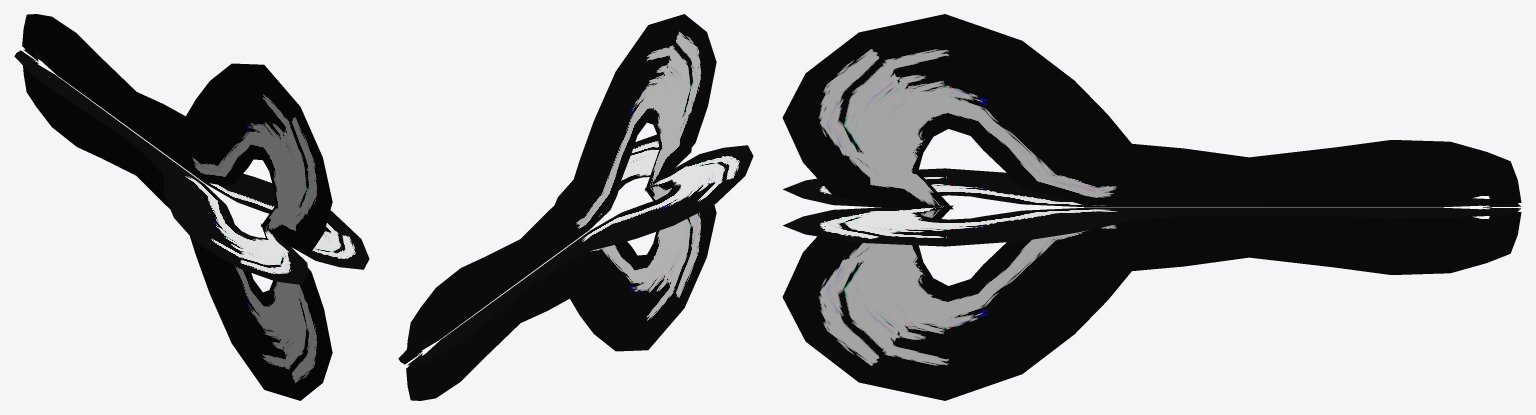
The model's file is zhufudatianshizhijueduifuwenmobang003.fbx.
3 views of the same model, side by side, from view 1: azimuth 30°, elevation 25°; view 2: azimuth 150°, elevation 25°; view 3: azimuth 270°, elevation 25° (orthographic). The views are drawn at different scales.
Parts seen in each view (by area): view 1: zhufudatianshizhijueduifuwenmobang003; view 2: zhufudatianshizhijueduifuwenmobang003; view 3: zhufudatianshizhijueduifuwenmobang003.
Part boxes in pixels (left/top/right/bottom): zhufudatianshizhijueduifuwenmobang003: left=14, top=14, right=369, bottom=400; zhufudatianshizhijueduifuwenmobang003: left=398, top=14, right=753, bottom=400; zhufudatianshizhijueduifuwenmobang003: left=782, top=14, right=1521, bottom=400.
Bounding box in the file's own units: 103 × 239 × 413.
